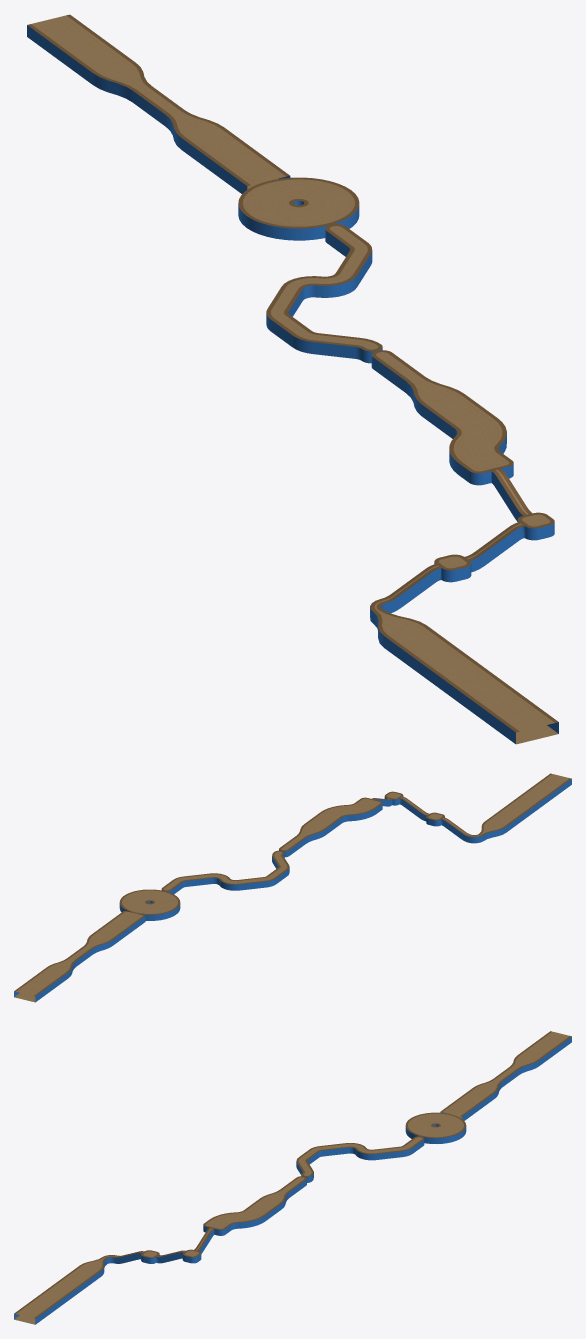
Rendered from ramp_33.FBX.
3 views of the same model, one above another, from view 1: azimuth 30°, elevation 25°; view 2: azimuth 150°, elevation 25°; view 3: azimuth 330°, elevation 25° (orthographic). The views are drawn at different scales.
Visible parts, largest first — view 1: ramp_33; view 2: ramp_33; view 3: ramp_33.
Part boxes in pixels (left/top/right/bottom): ramp_33: left=27, top=14, right=558, bottom=744; ramp_33: left=14, top=773, right=571, bottom=1002; ramp_33: left=14, top=1031, right=571, bottom=1324.
Size of the model in its own units: 3836 by 768 by 14181.
